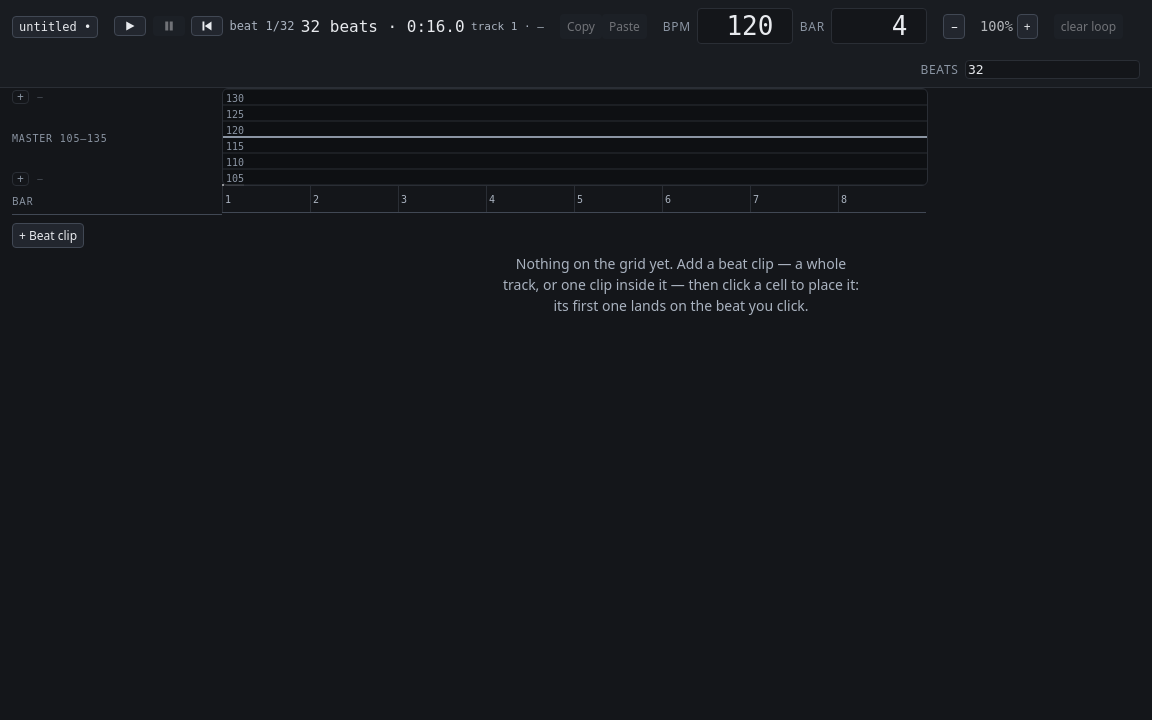
GridView › shows tracks first, and expands one to its clips
Click the button with test id "grid-add". click: (48, 236)
box: [12, 223, 84, 248]
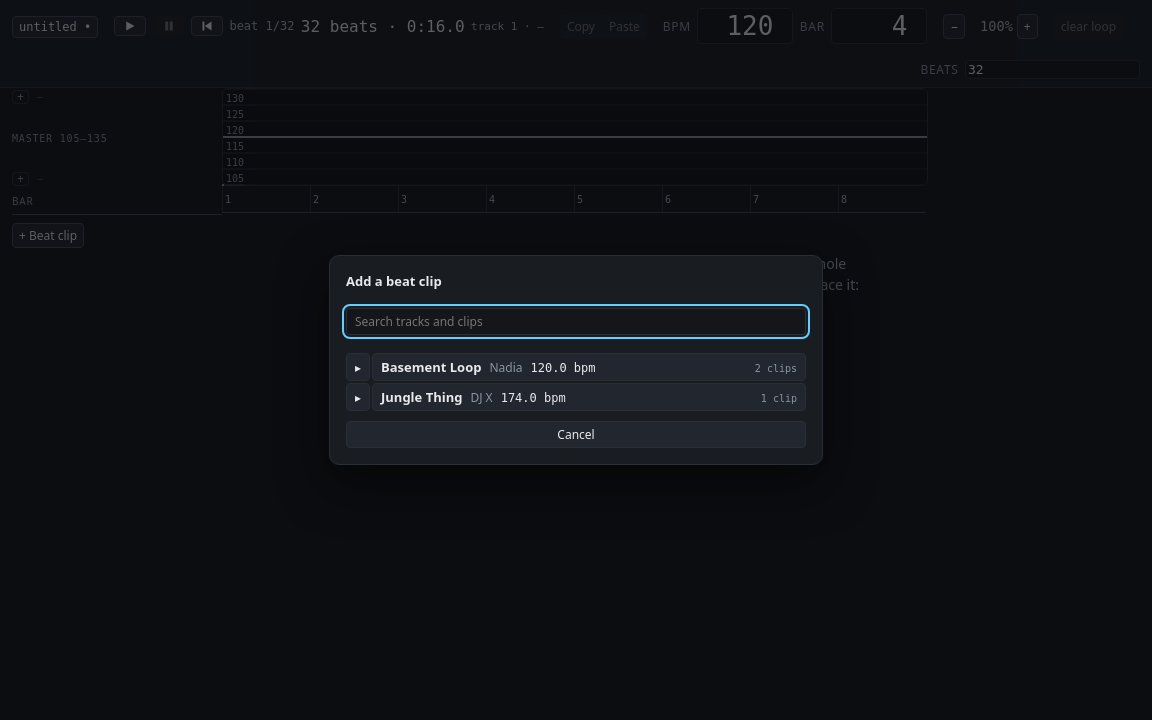
Now the element with test id "grid-picker" that starts with "Add a beat clip" is shown
Now the button with test id "grid-picker-track-h1" is shown, box [372, 353, 806, 381]
Click the button with test id "grid-picker-expand-h1". click: (358, 367)
box: [346, 353, 370, 381]
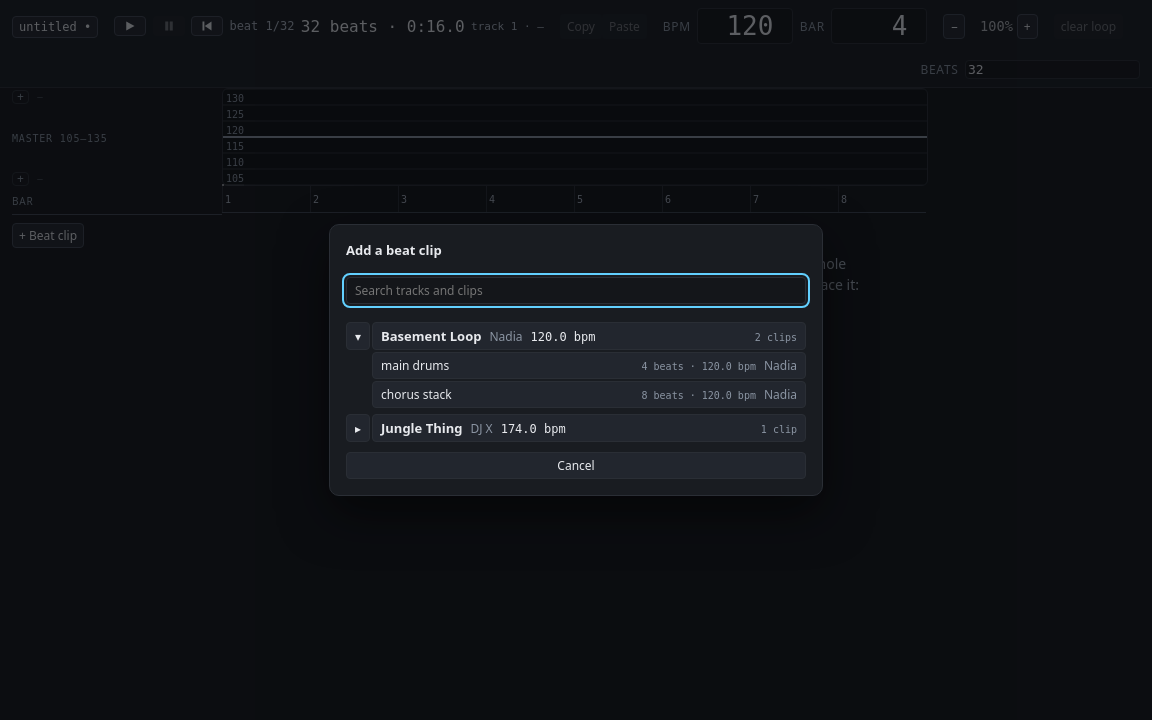
Now the button with test id "grid-picker-clip-c1" is shown, box [372, 352, 806, 379]
Now the button with test id "grid-picker-clip-c2" is shown, box [372, 381, 806, 408]
